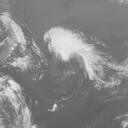cyclone: (46, 26, 105, 76)
